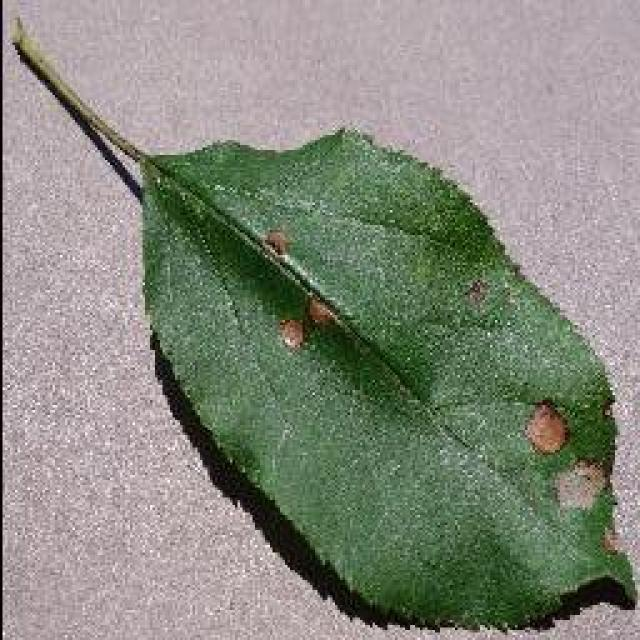Black_rot: (8, 10, 638, 632)
